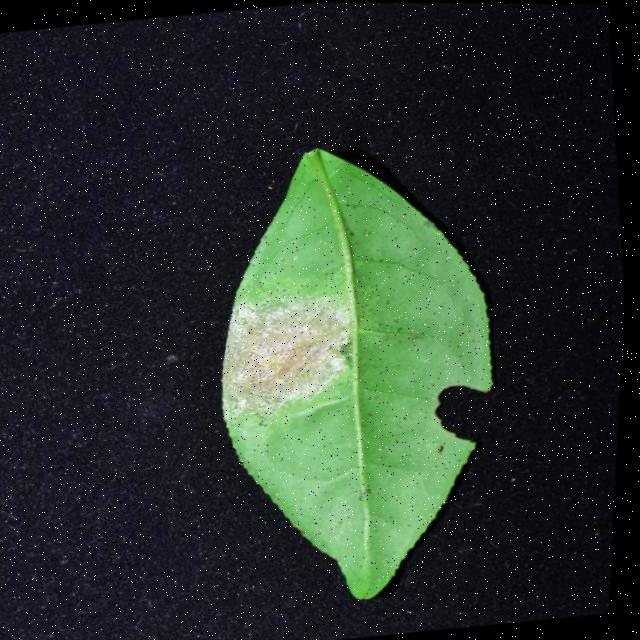Tea exobasidium blight: (205, 284, 366, 425)
